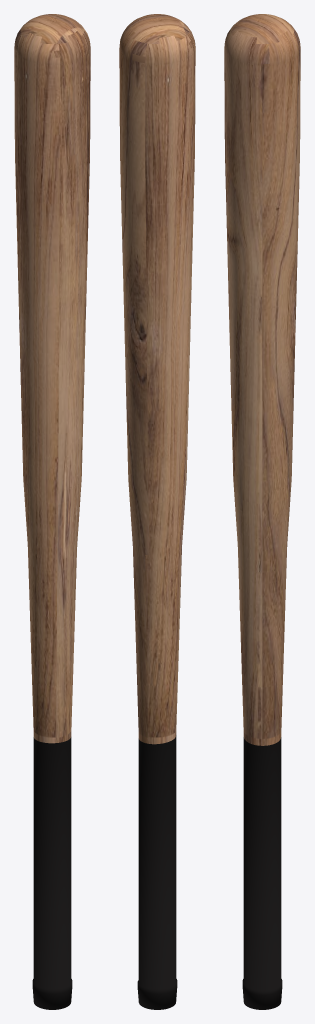
The model's file is bat.glb.
3 views of the same model, side by side, from view 1: azimuth 90°, elevation 25°; view 2: azimuth 150°, elevation 25°; view 3: azimuth 270°, elevation 25° (orthographic).
Visible parts, largest first — view 1: Circle; view 2: Circle; view 3: Circle.
Part boxes in pixels (bbox=[...]): Circle: bbox=[14, 14, 90, 1009]; Circle: bbox=[119, 14, 195, 1009]; Circle: bbox=[224, 14, 300, 1009].
Bounding box in the file's own units: 0.2115 × 3 × 0.2115.
Materials: 2 (1 with a texture image).
